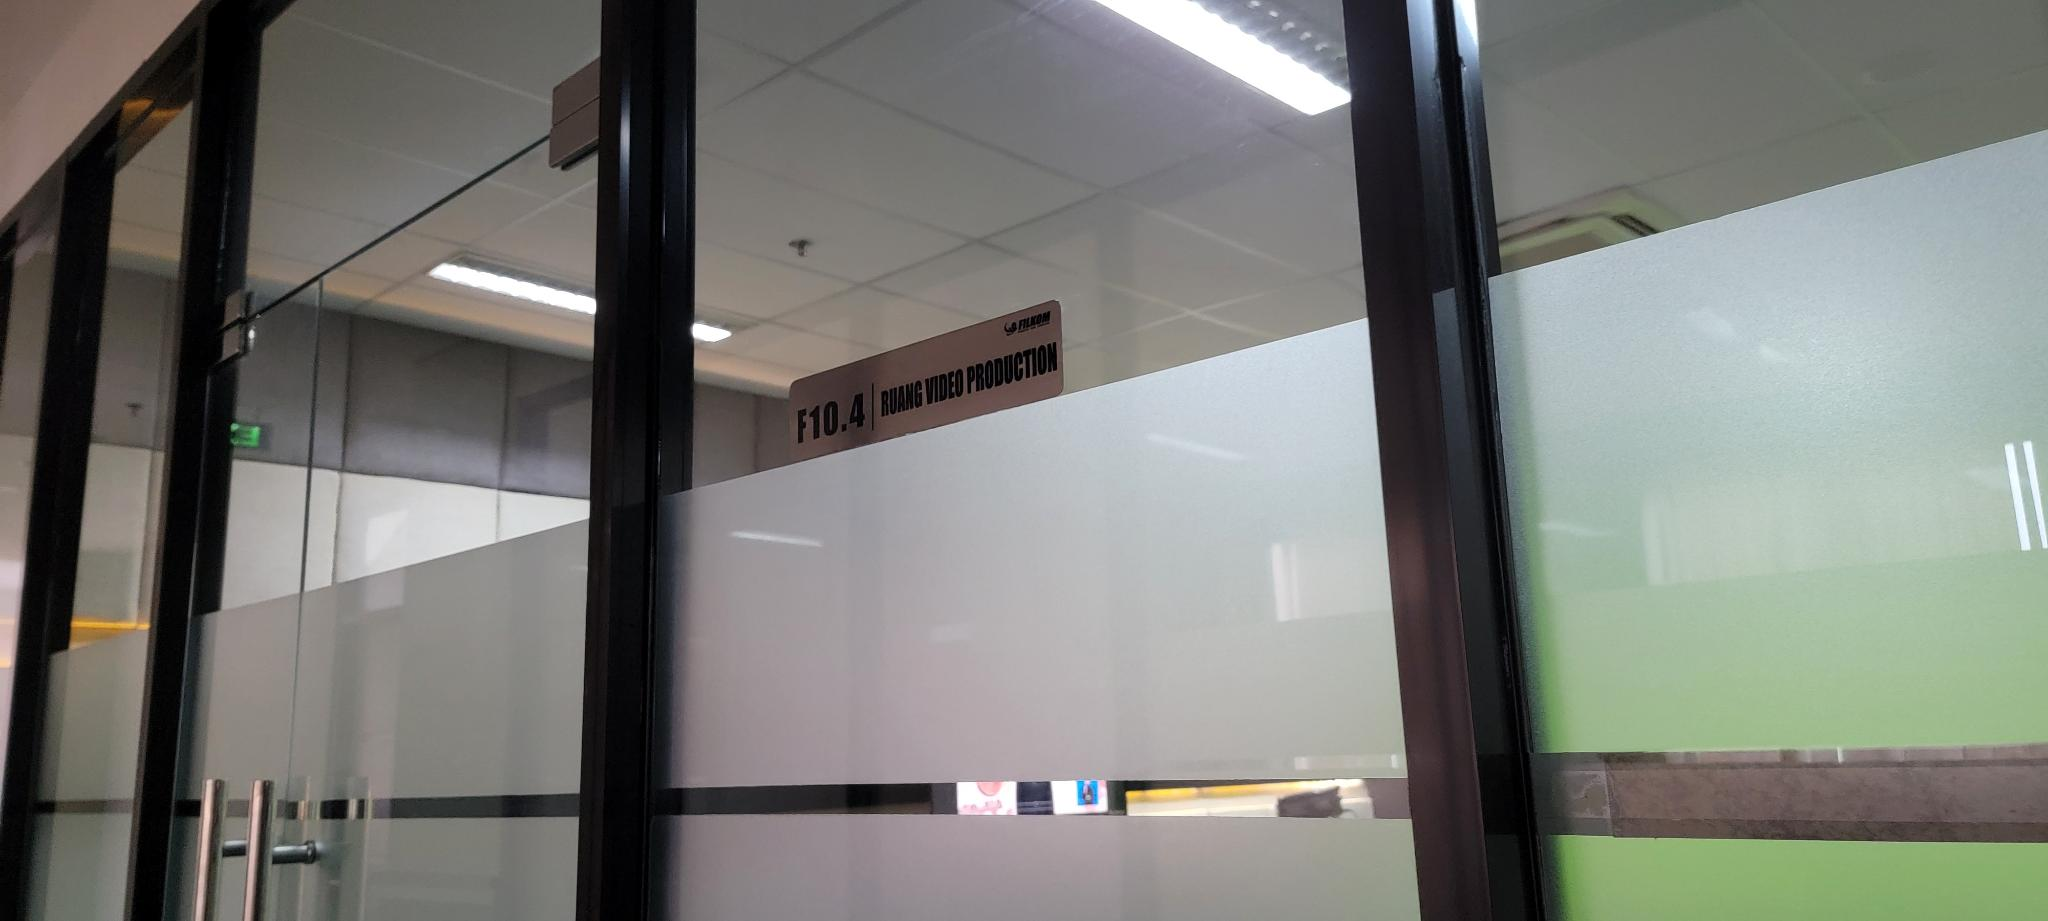plate: (788, 298, 1064, 466)
